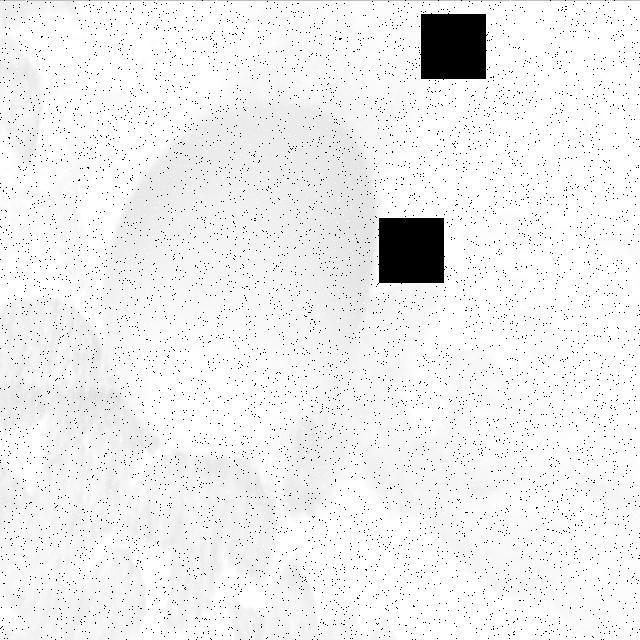egg: (98, 90, 388, 472)
